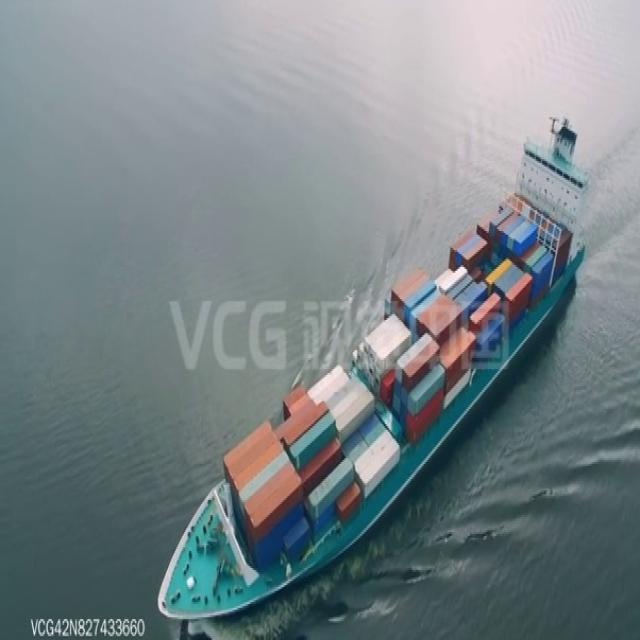cargoship: (155, 107, 586, 629)
